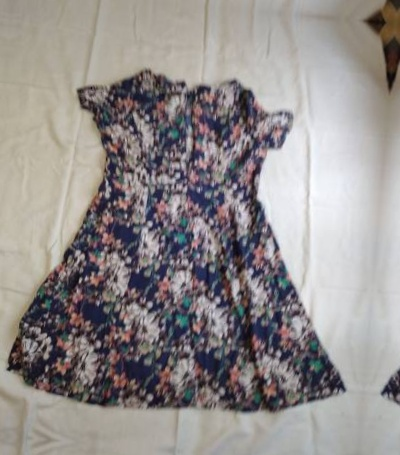Dress: (0, 48, 367, 430), (384, 83, 400, 455)
